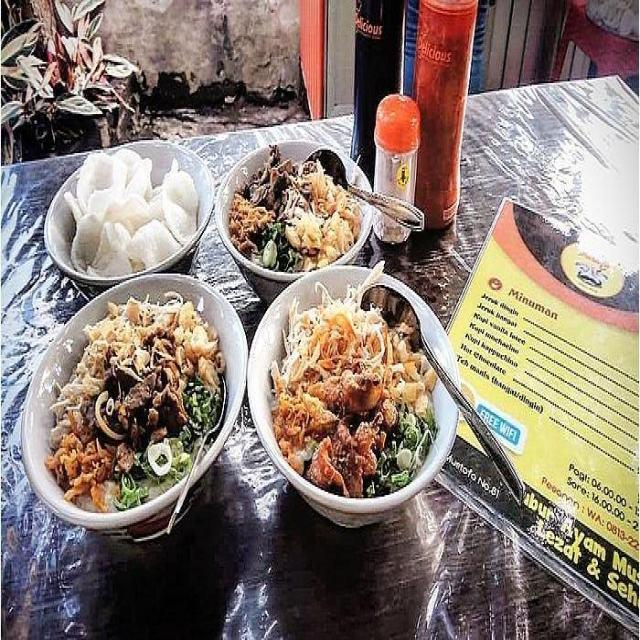bubur ayam: (46, 287, 226, 514), (269, 260, 437, 498), (232, 147, 362, 272)
mangkuk: (20, 271, 248, 543), (246, 263, 461, 527), (44, 140, 215, 295), (215, 142, 372, 304)
